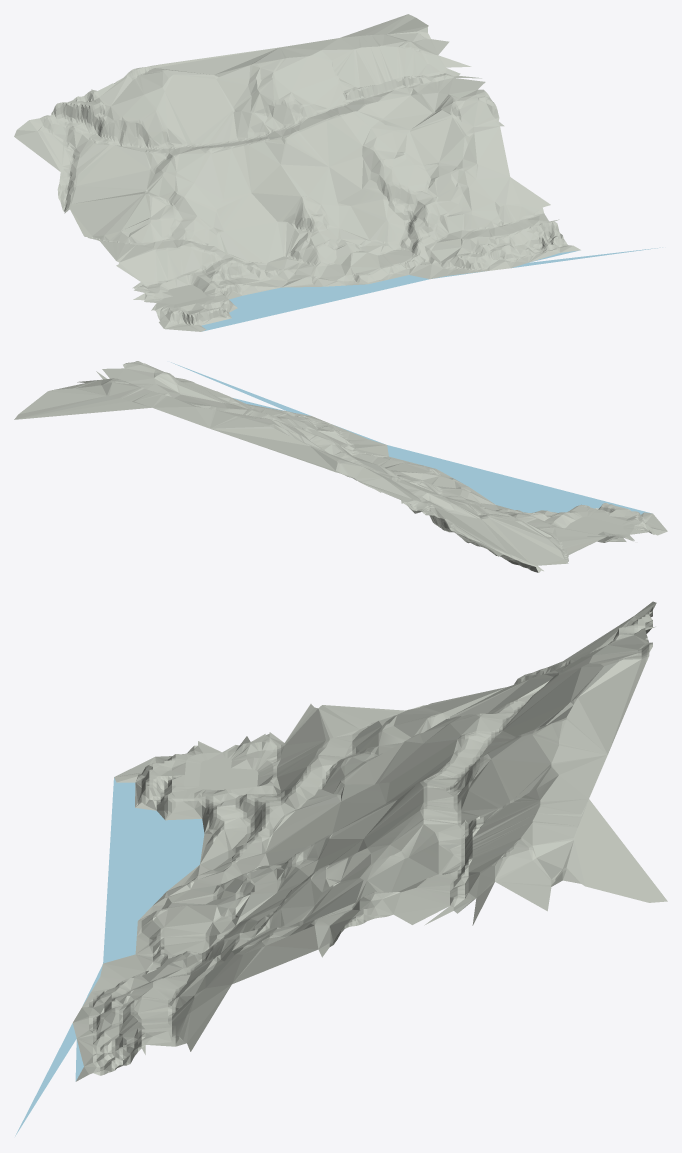
The model's file is context-terrain-C-x2-z0.glb.
3 views of the same model, one above another, from view 1: azimuth 30°, elevation 25°; view 2: azimuth 150°, elevation 25°; view 3: azimuth 270°, elevation 25° (orthographic). The views are drawn at different scales.
Visible parts, largest first — view 1: C-x2-z0; view 2: C-x2-z0; view 3: C-x2-z0.
Part boxes in pixels (left/top/right/bottom): C-x2-z0: left=14, top=14, right=662, bottom=331; C-x2-z0: left=14, top=361, right=667, bottom=572; C-x2-z0: left=15, top=601, right=667, bottom=1136.
Size of the model in its own units: 121 by 31.09 by 87.
